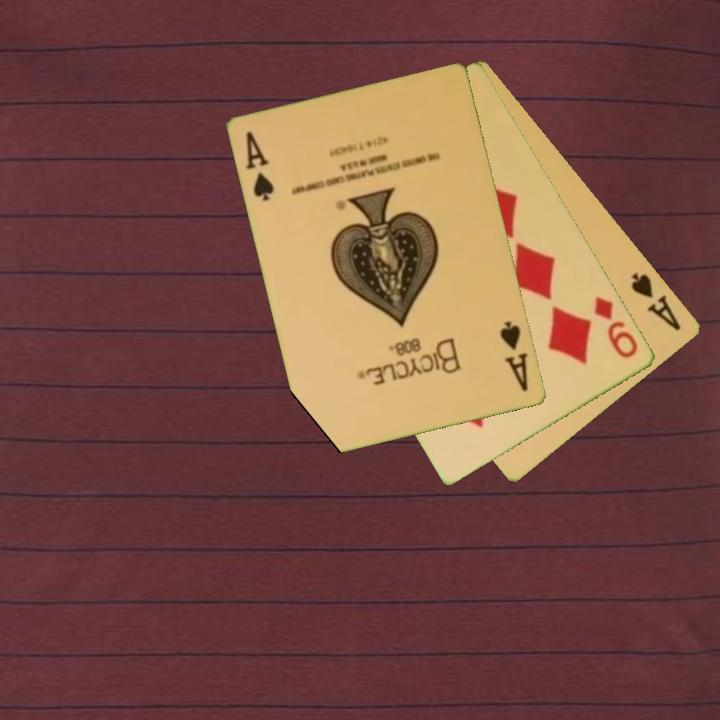9d: (591, 292, 641, 362)
As: (628, 268, 684, 334), (497, 317, 532, 395), (243, 128, 278, 205)
